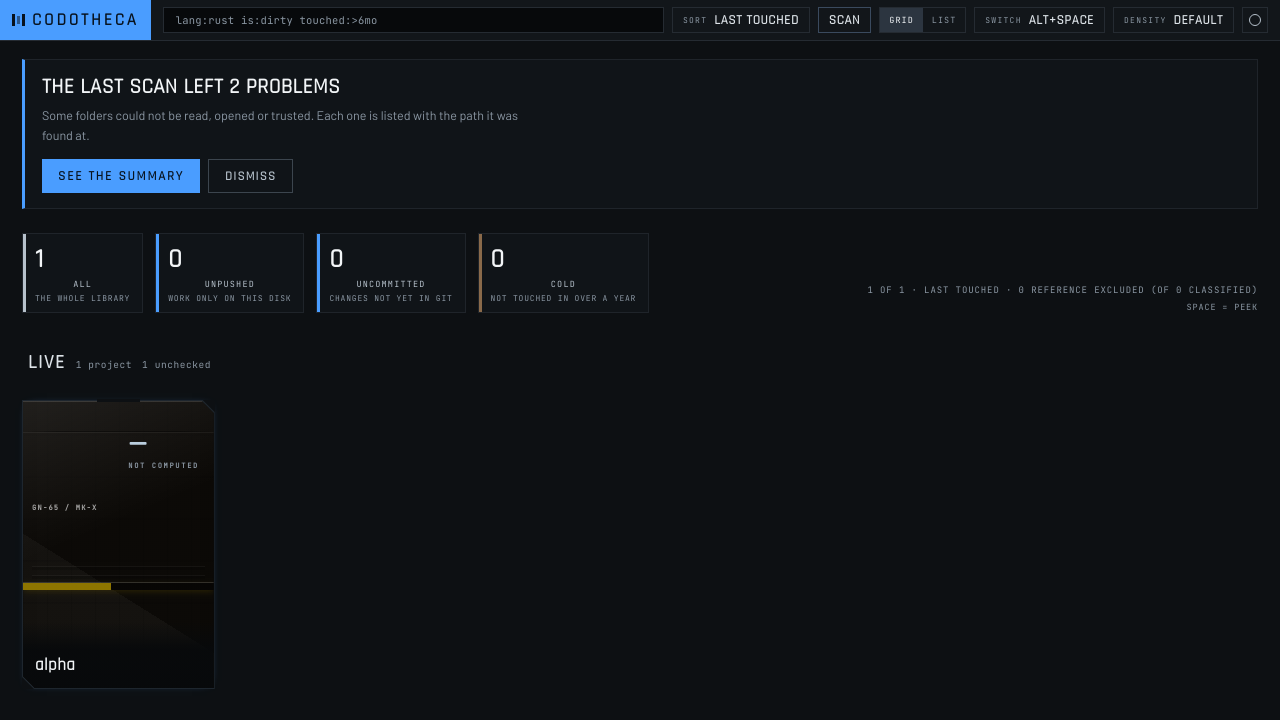
Test case: App — the composition root › dismisses a scan problems notice, and it stays dismissed
Expected: the text "THE LAST SCAN LEFT 2 PROBLEMS" is shown, 42,73 -> 340,100
Click the button "DISMISS".
click(251, 176)  # box 208,159 -> 293,193
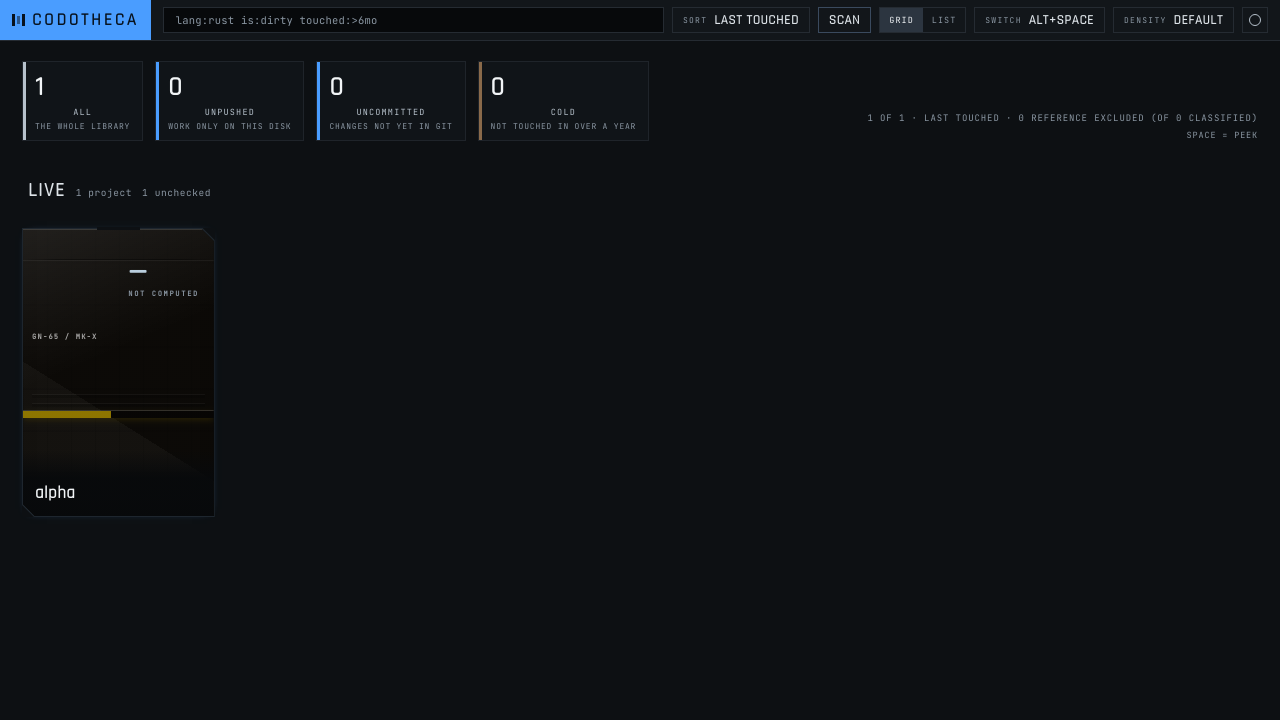
Result: the text "THE LAST SCAN LEFT 2 PROBLEMS" is gone
